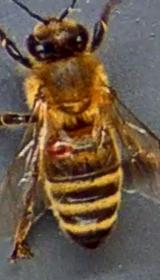varroa_mite: (37, 134, 78, 160)
